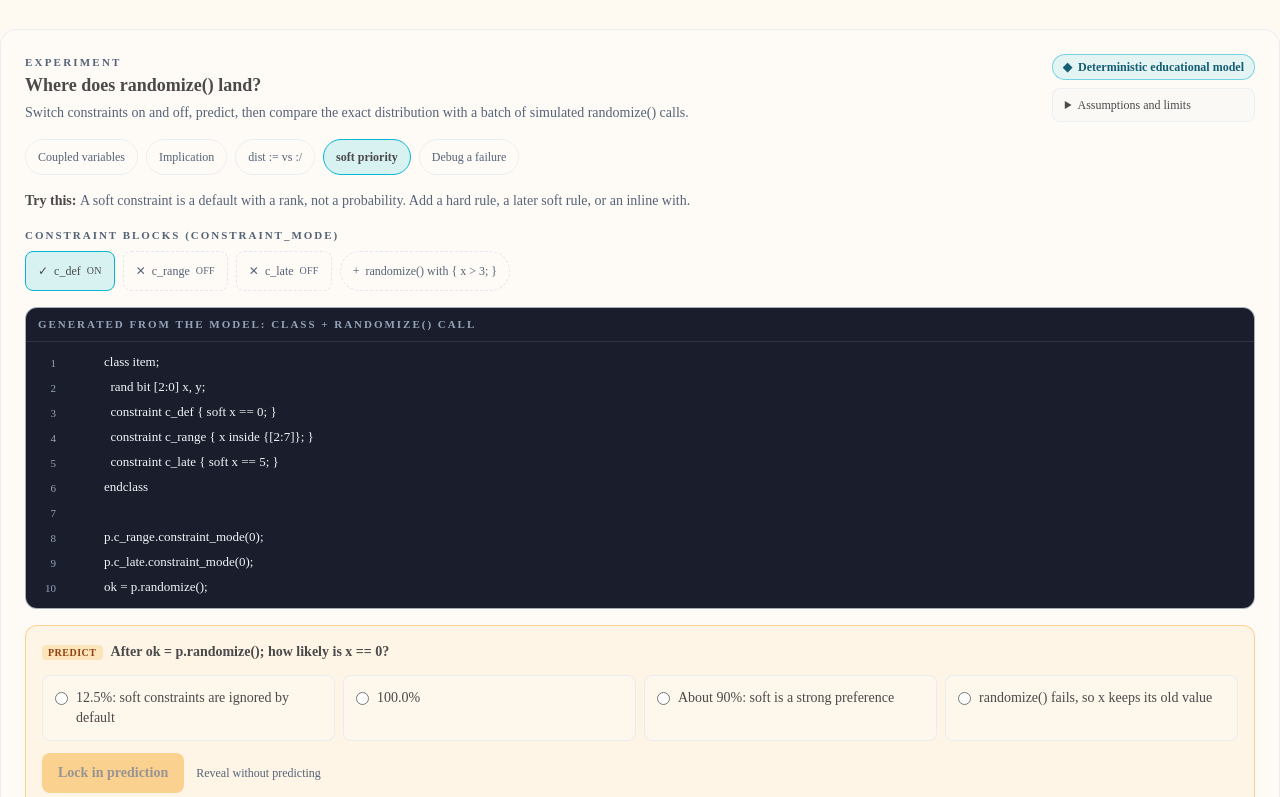
Test: ConstraintSolverHeatmapVisualizer › treats soft as a priority, not a probability
Click the radio button labelled "About 90%: soft is a strong preference" at (664, 698), box [657, 692, 670, 704]
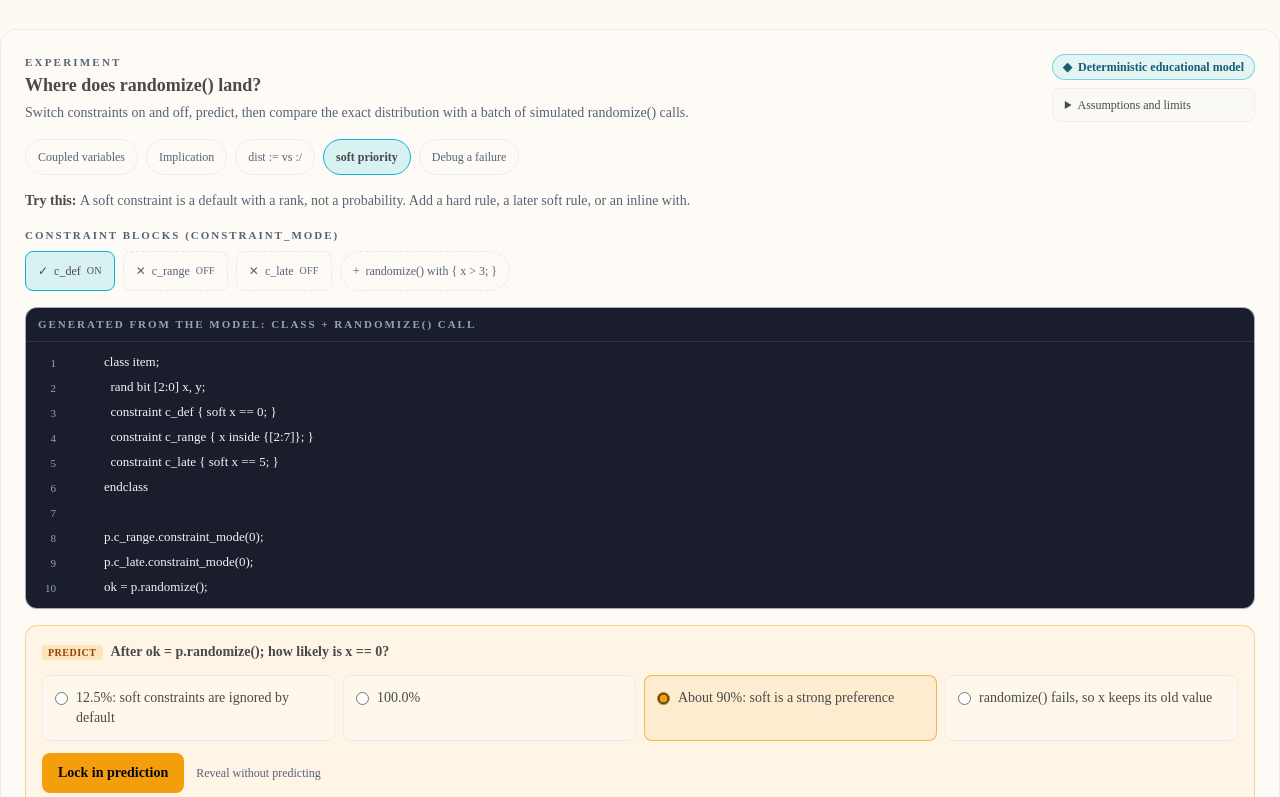
Click the button "Lock in prediction" at (113, 772), box [42, 752, 184, 792]
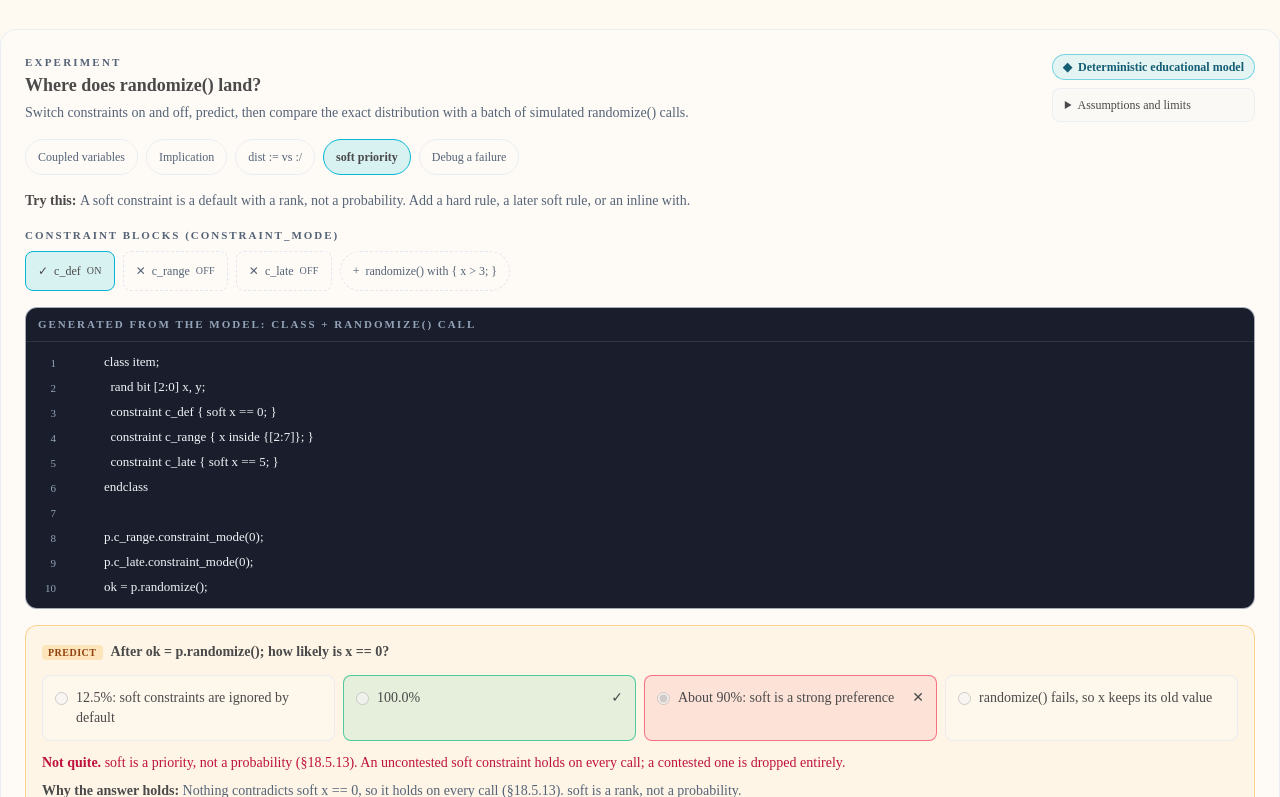
Now the text "soft is a priority, not a probability" is shown, box [105, 754, 845, 770]
Click the button with aria-label "Constraint c_late" at (284, 271), box [236, 251, 332, 291]
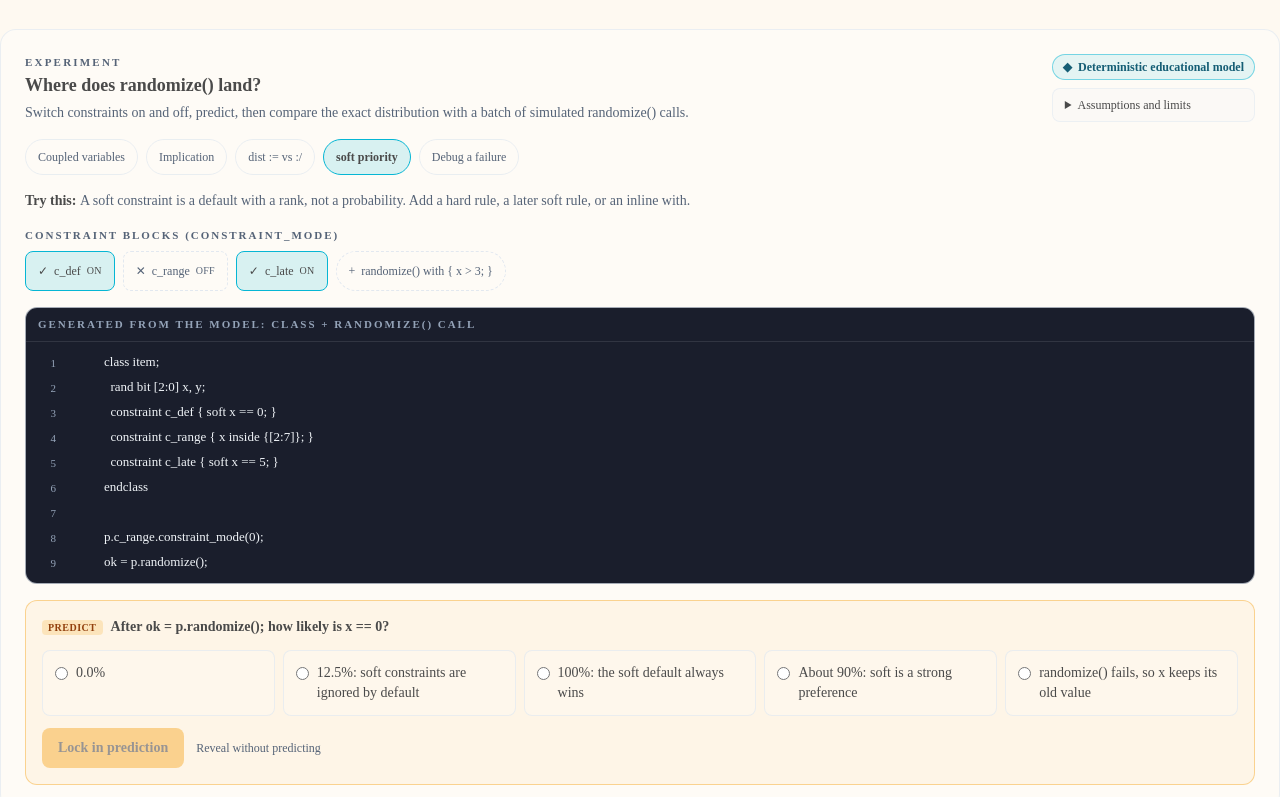
Click the button "Reveal without predicting" at (258, 748), box [196, 740, 321, 756]
(page scrolled)
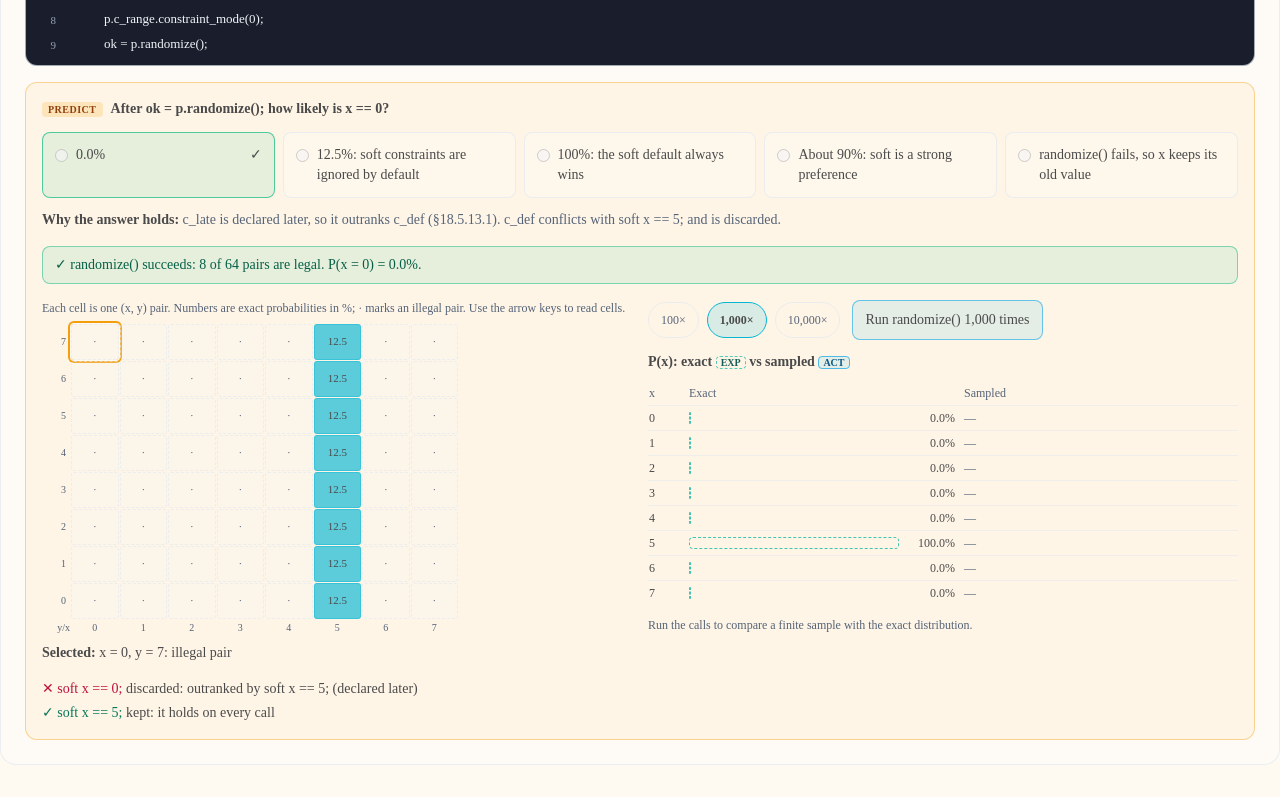
Now the text "c_late is declared later, so it outranks c_def" is shown, box [182, 212, 781, 226]
Now the text "discarded: outranked by soft x == 5; (declared later)" is shown, box [126, 680, 418, 696]
